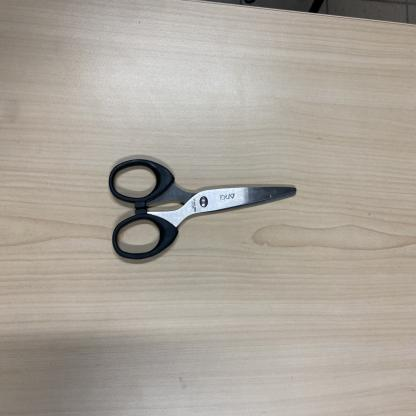scissors: (108, 156, 297, 261)
